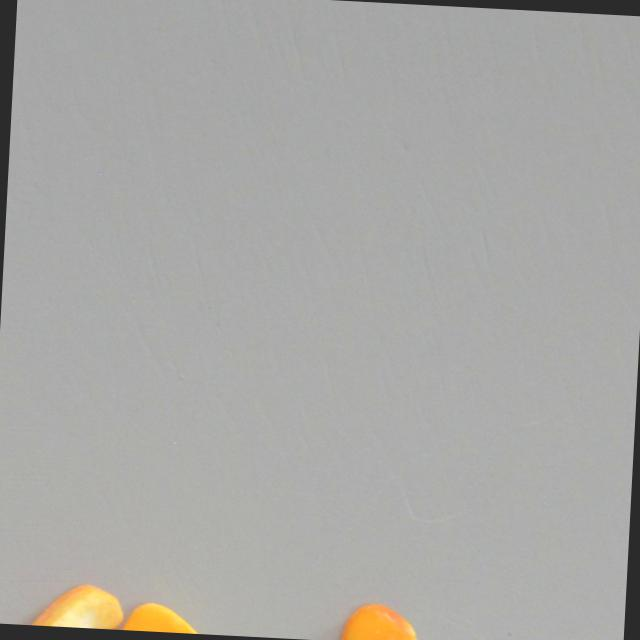no_canjicado: (26, 581, 125, 630), (114, 602, 210, 635)
pelicula: (337, 603, 419, 640)
